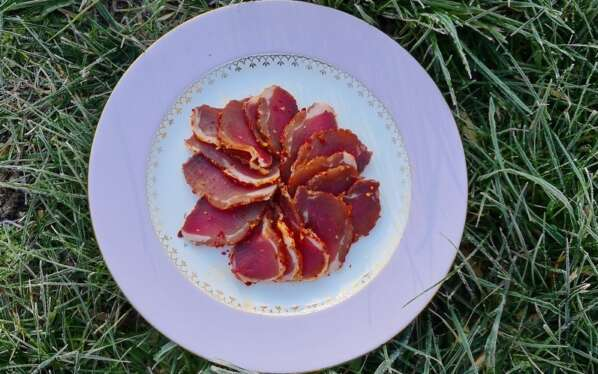filet mignon: (172, 93, 401, 281)
